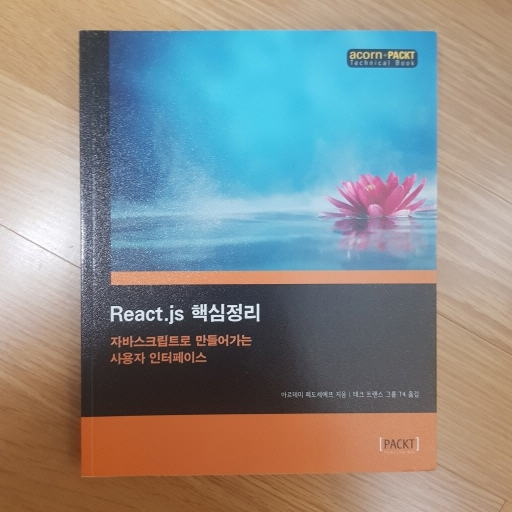Paper_0: (54, 21, 453, 488)
